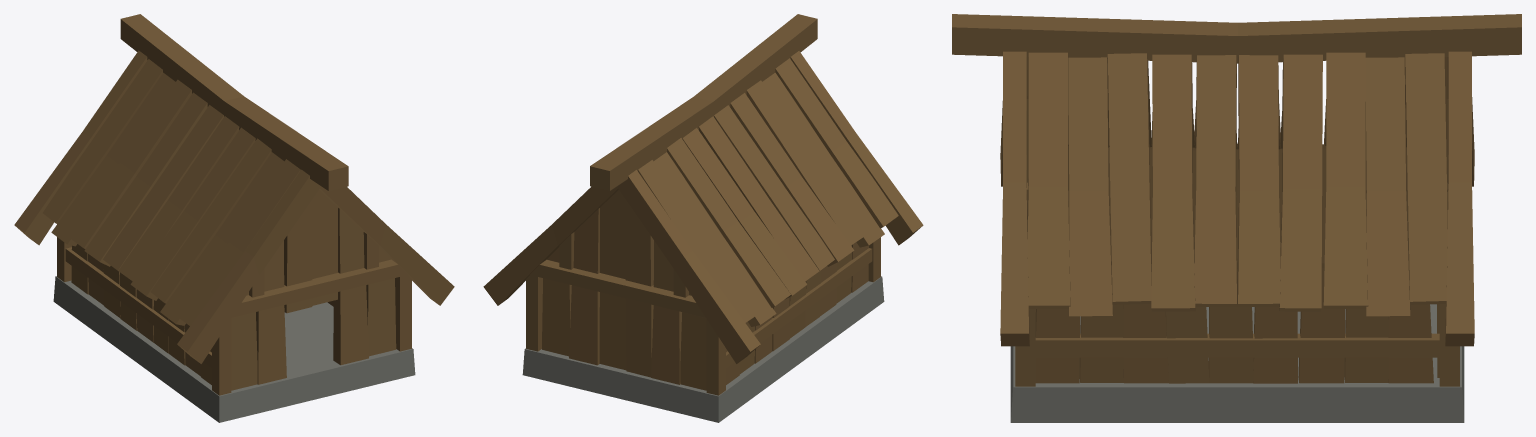
Rendered from rumah.fbx.
The picture shows the model from 3 angles, left to right: view 1: azimuth 30°, elevation 25°; view 2: azimuth 150°, elevation 25°; view 3: azimuth 270°, elevation 25°; orthographic projection. The views are drawn at different scales.
Visible parts, largest first — view 1: rumah; view 2: rumah; view 3: rumah.
Boxes of the visible parts, box(x1,y1,x2,y2) form: rumah: box(14, 14, 454, 422); rumah: box(483, 14, 923, 422); rumah: box(952, 14, 1521, 422).
Bounding box in the file's own units: 5.19 × 4.56 × 7.
